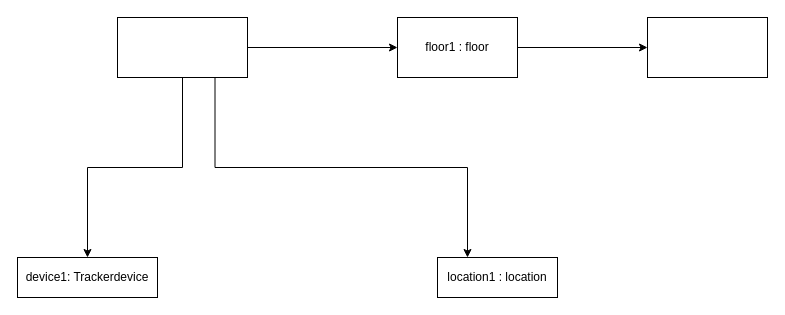
Some shapes in this 785 by 315 pixel diagram are drawn without their labels. Here are the shapes that lost their labels. From the top down, the box of each, then its label:
(116, 16, 248, 78): soldier1 : soldier
(646, 16, 768, 78): building1 : building
